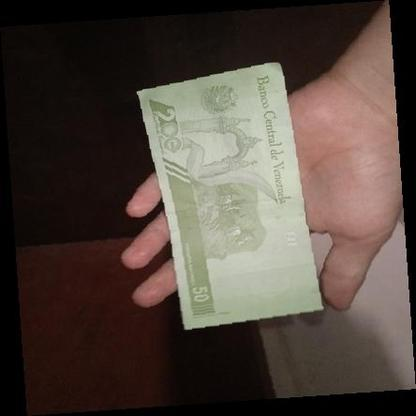fifty-back-vef: (136, 60, 324, 332)
